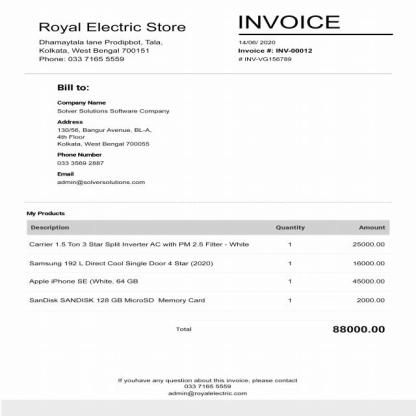Paragraph: (54, 82, 172, 186), (36, 21, 188, 63), (236, 14, 342, 63), (340, 359, 416, 415), (117, 378, 299, 397), (332, 324, 386, 334), (26, 211, 66, 217), (174, 326, 192, 332)
Table: (27, 220, 390, 311)
